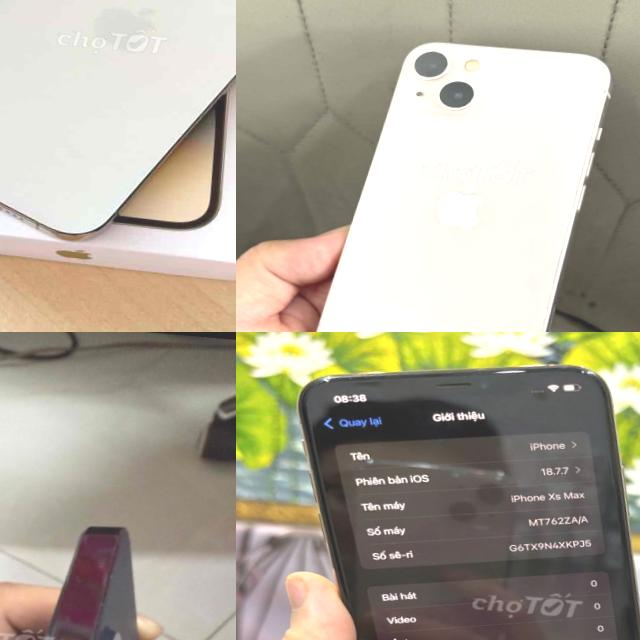scratch: (296, 366, 354, 399)
